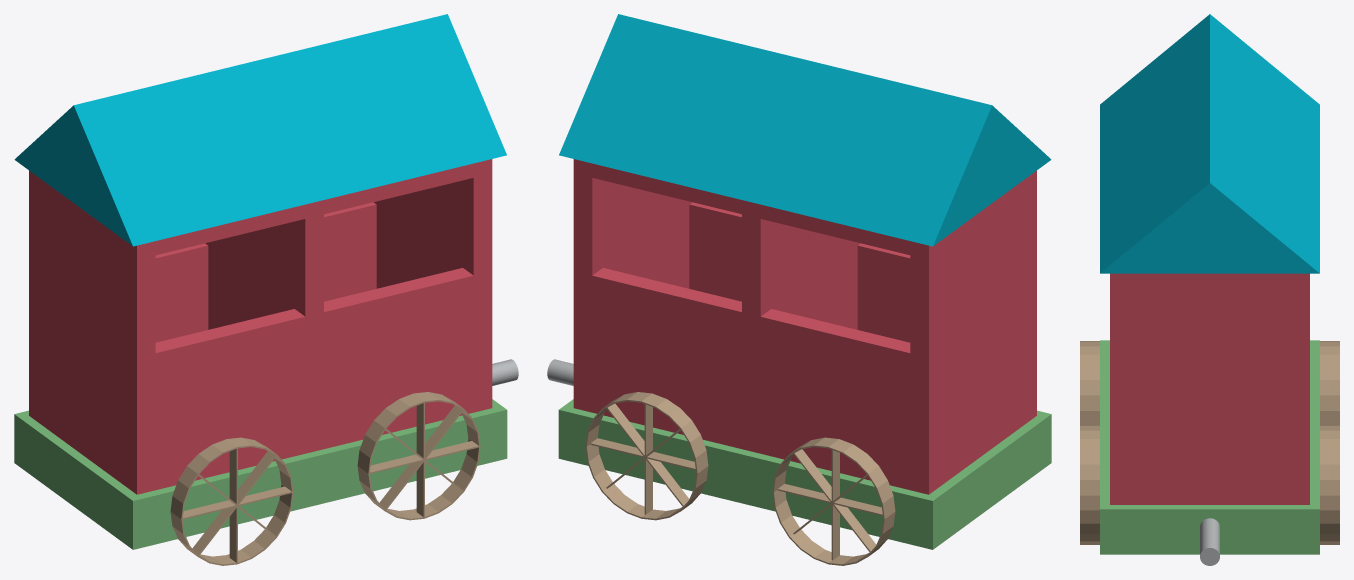
The model's file is train-car.glb.
3 renders of one model, left to right at view 1: azimuth 30°, elevation 25°; view 2: azimuth 150°, elevation 25°; view 3: azimuth 270°, elevation 25°, orthographic. The views are drawn at different scales.
Parts seen in each view (by area): view 1: Mesh_Mesh_head_geo.001_lambert2SG.001; view 2: Mesh_Mesh_head_geo.001_lambert2SG.001; view 3: Mesh_Mesh_head_geo.001_lambert2SG.001.
Part boxes in pixels (left/top/right/bottom): Mesh_Mesh_head_geo.001_lambert2SG.001: left=14, top=14, right=518, bottom=565; Mesh_Mesh_head_geo.001_lambert2SG.001: left=547, top=14, right=1051, bottom=565; Mesh_Mesh_head_geo.001_lambert2SG.001: left=1080, top=14, right=1339, bottom=565.
Bounding box in the file's own units: 47 × 44 × 26.
